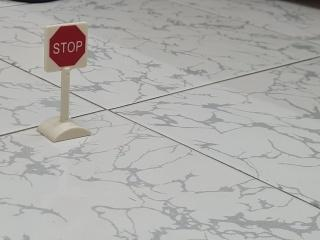stop: (35, 17, 95, 82)
